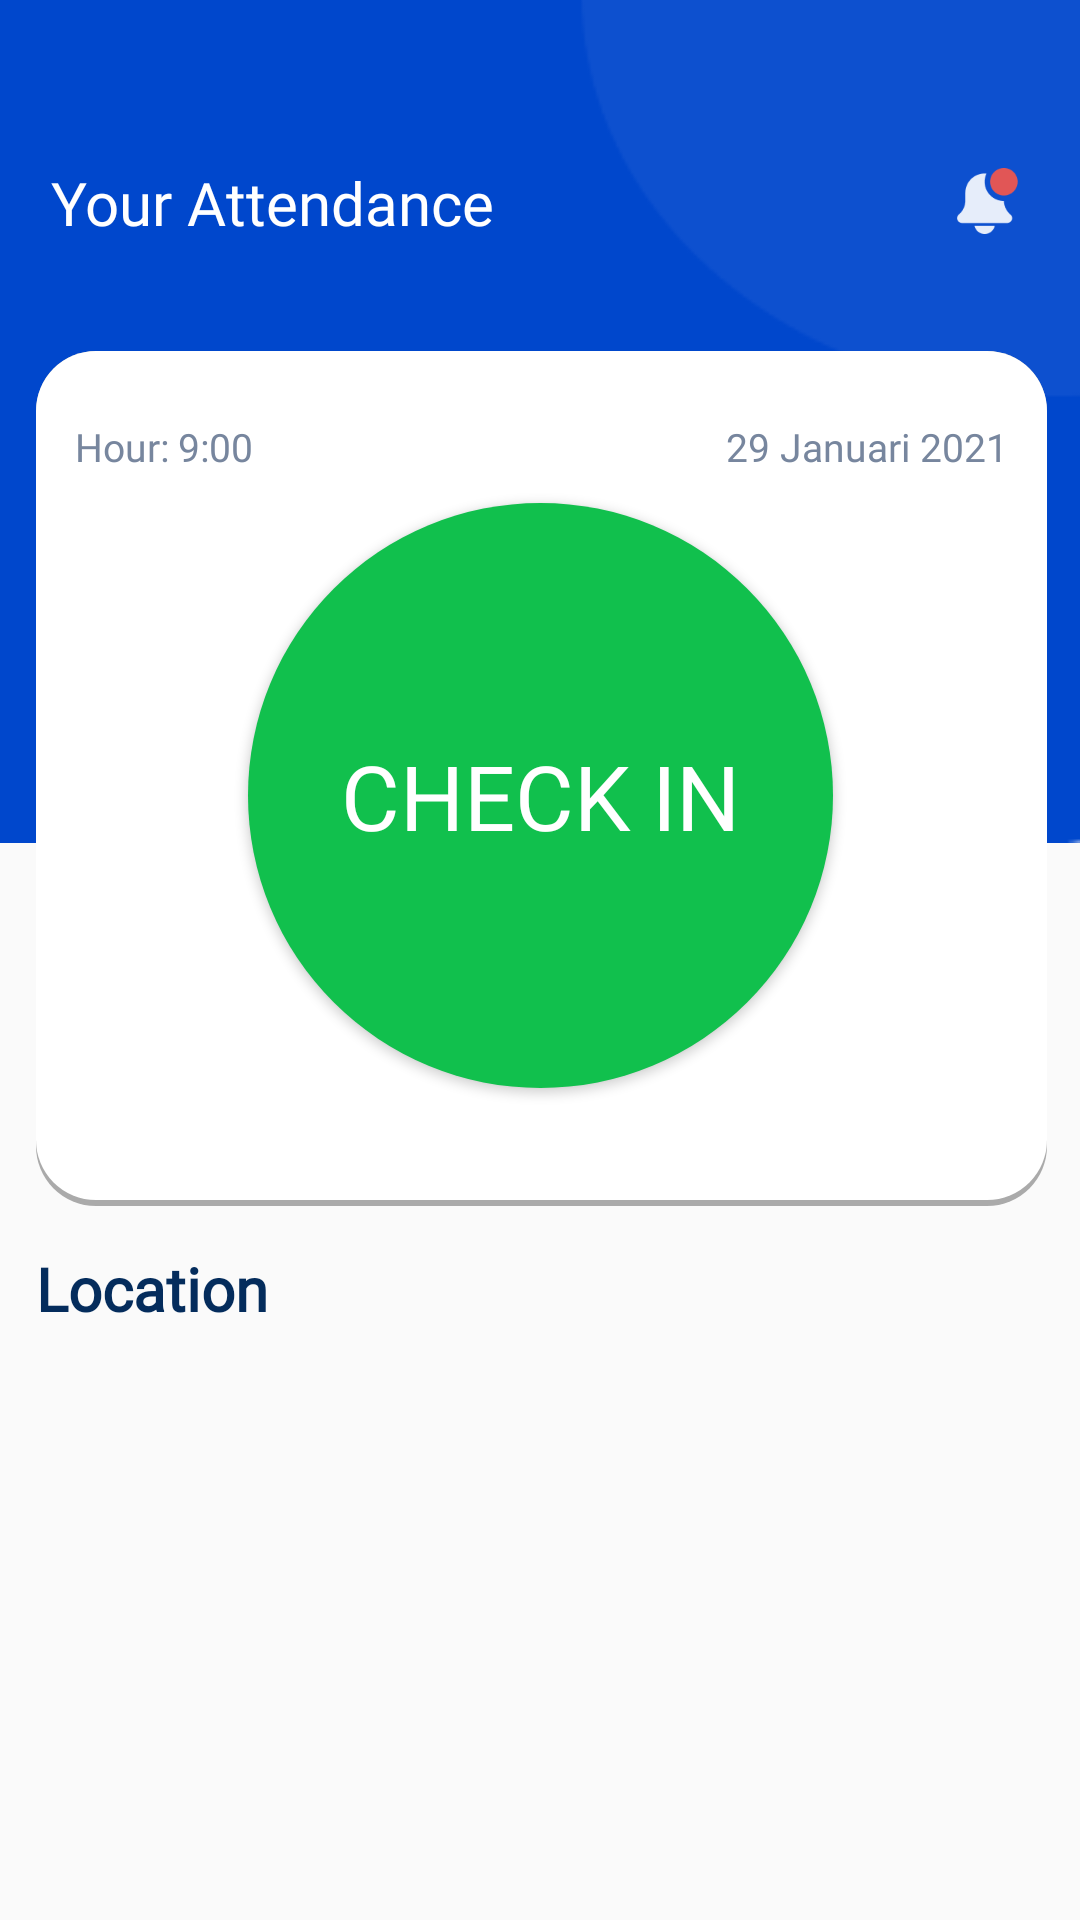

Icons on this 1080 x 1920 Android screen, each with the point to tap as point (x, y):
notification: point (987, 201)
